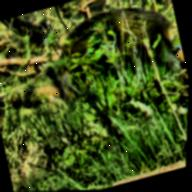boar: (21, 0, 186, 119)
